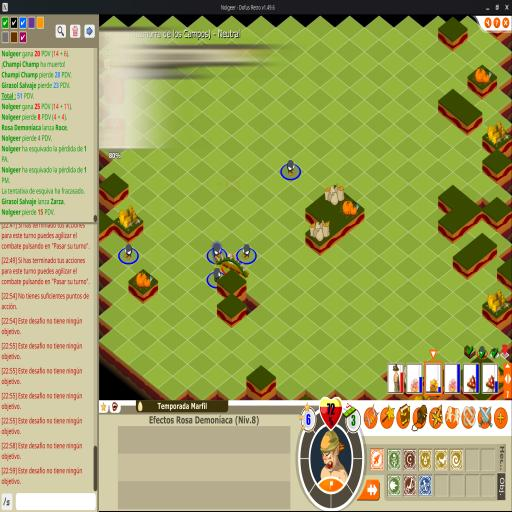Enemigos: (212, 243, 225, 263), (123, 243, 134, 261), (212, 267, 222, 284), (242, 243, 251, 261), (287, 160, 296, 176)
Personaje: (220, 251, 249, 280)
